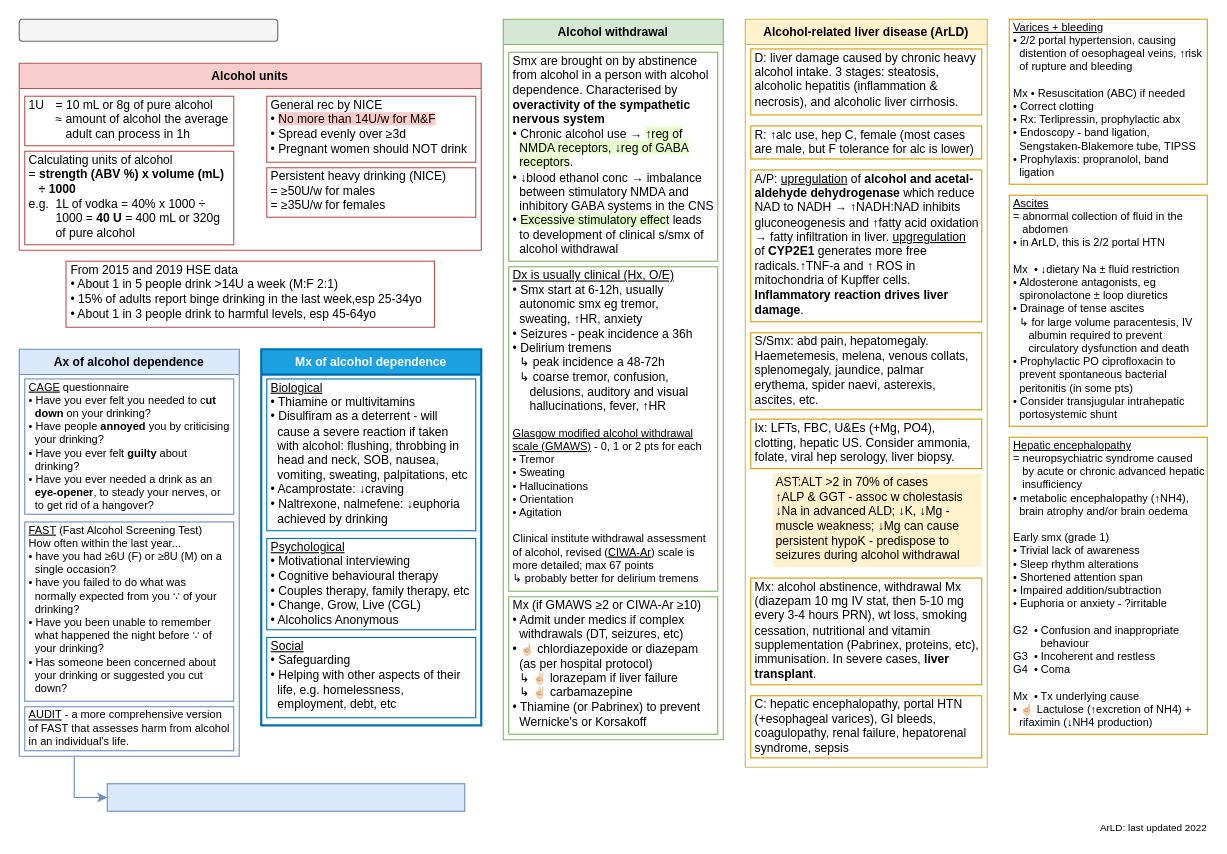
The diagram is 1227 pixels wide and 854 high, and some of its shapes have lost their labels. The centre of each missing label's shape, as x and y in pixels:
"Alcohol use in the primary care setting" belongs at [148,29].
"Screening, brief intervention, referral to treatment ( SBIRT )" belongs at [285,797].
